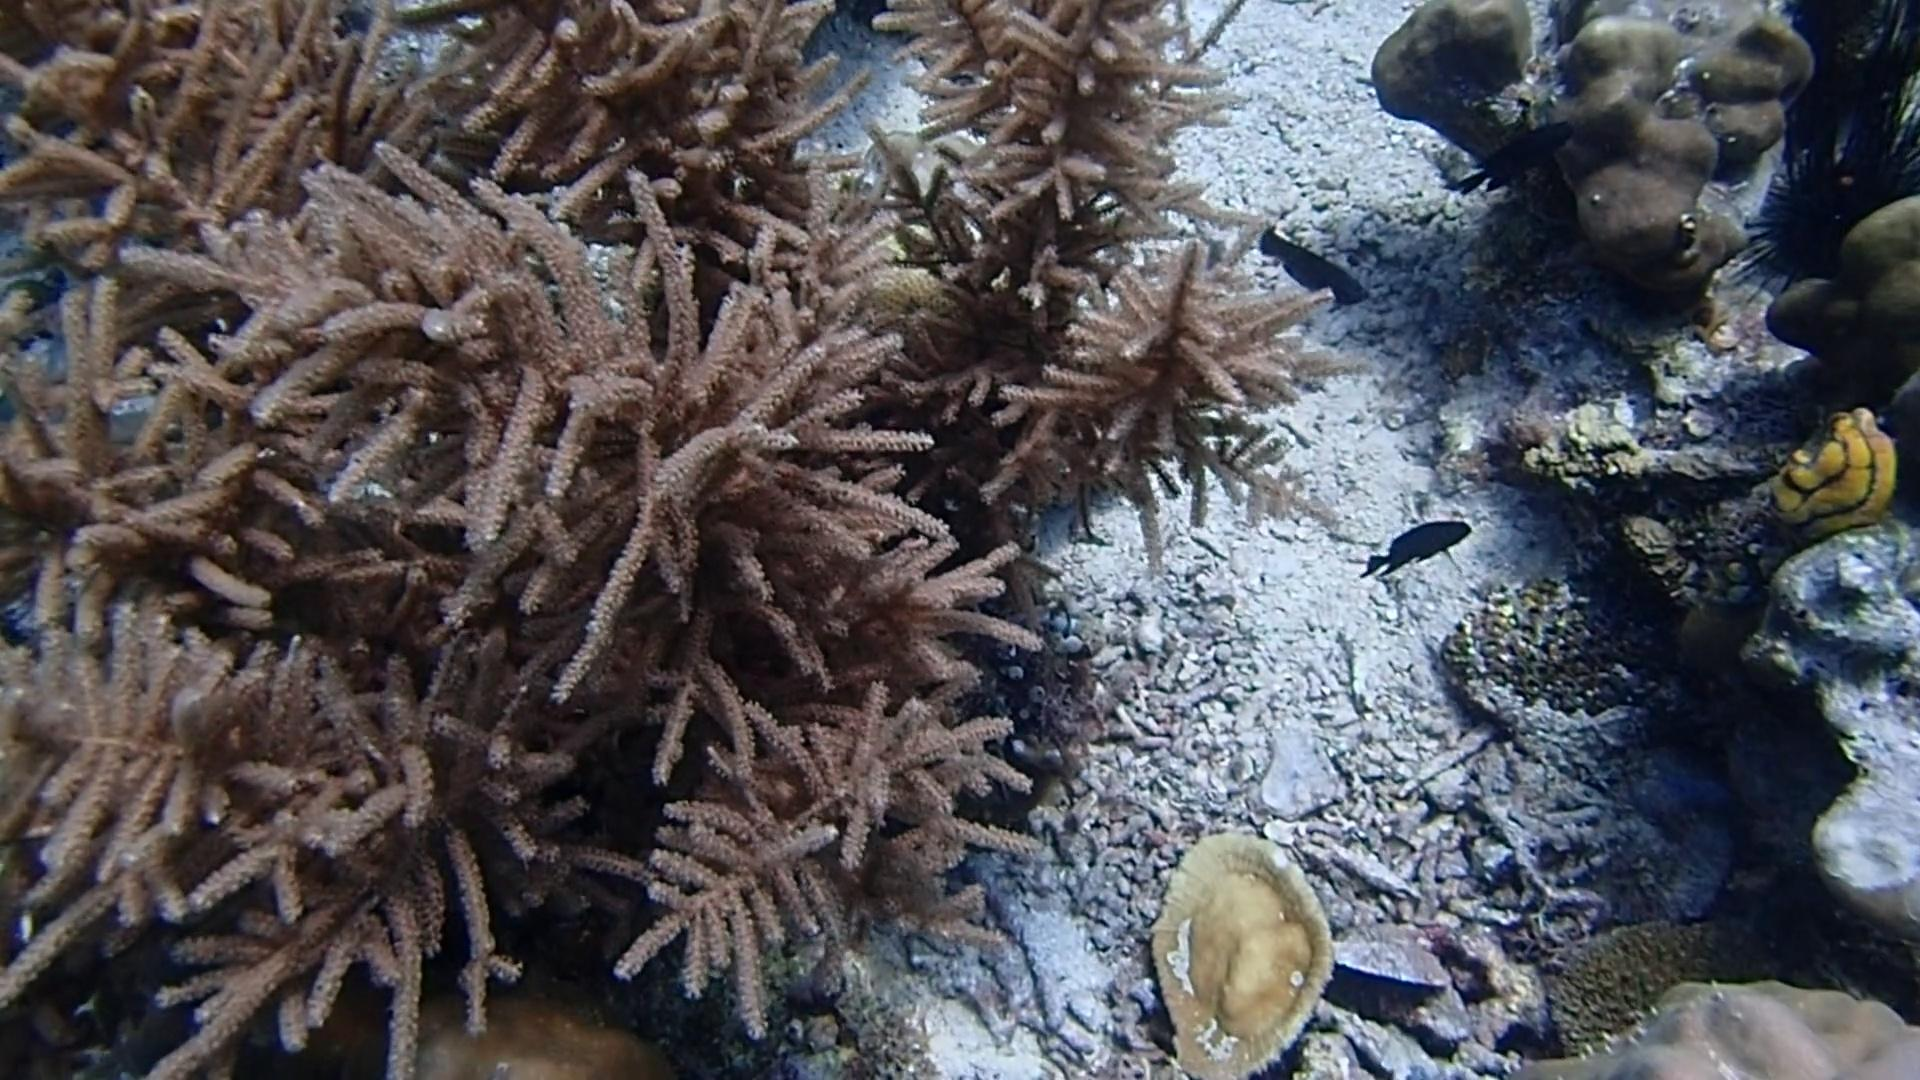Dark Fish: (1242, 208, 1379, 316), (1445, 115, 1581, 206), (1353, 510, 1477, 584)
